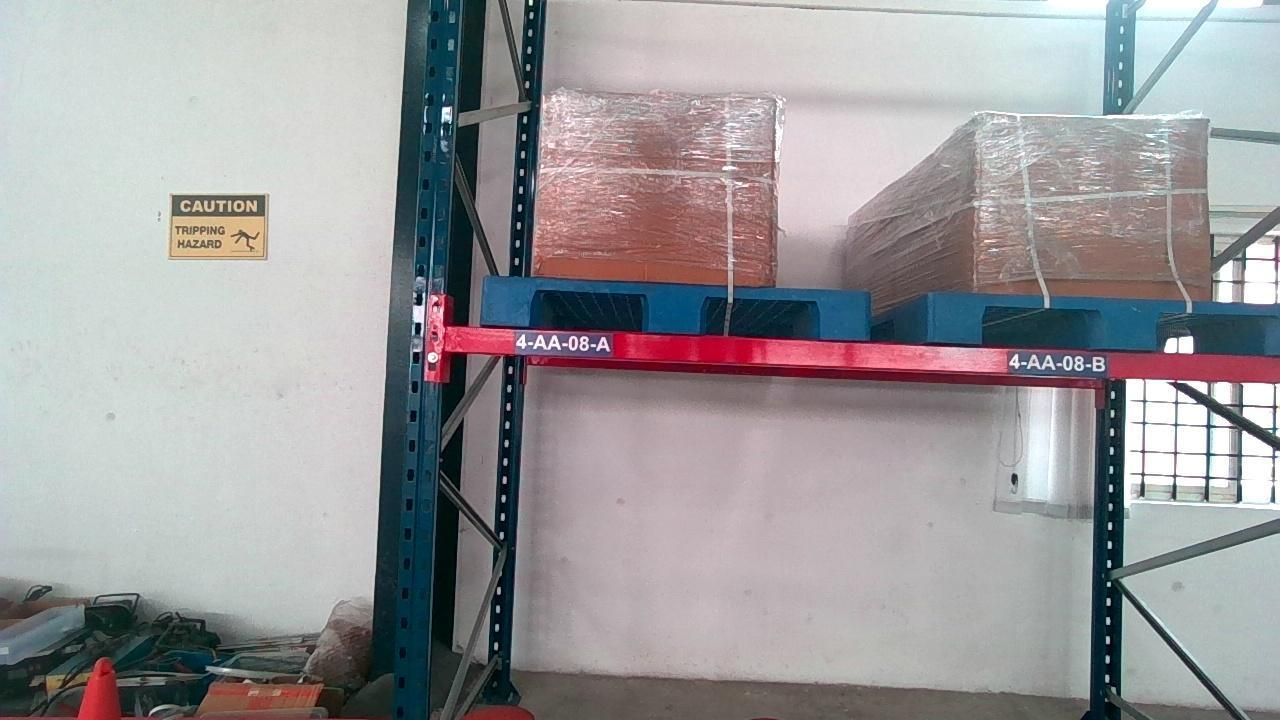h_rack: (450, 329, 1280, 379)
small_pallet: (481, 279, 871, 332), (933, 294, 1273, 349)
